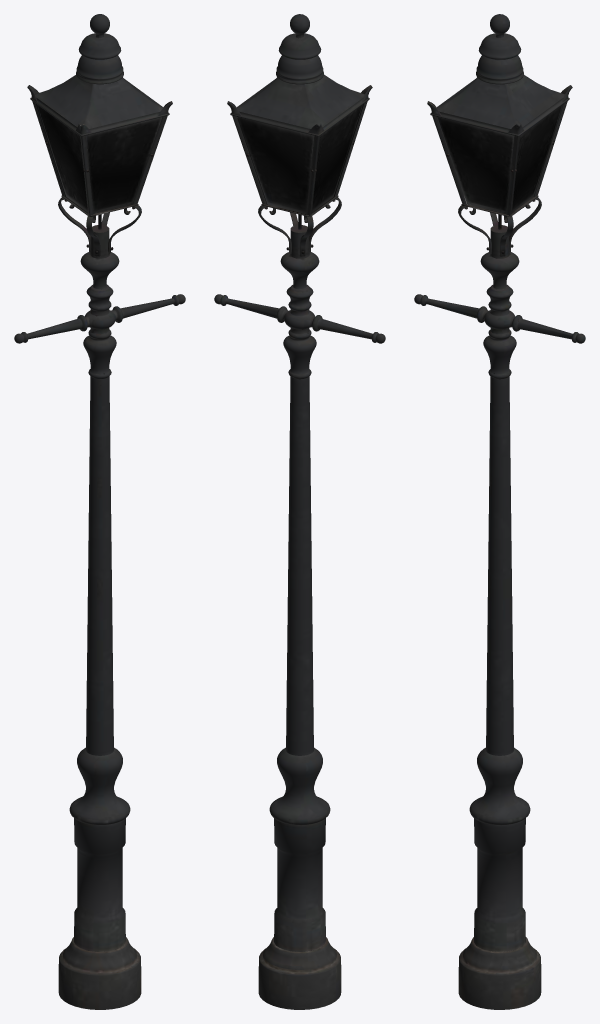
File: street_lamp.glb
3 views of the same model, side by side, from view 1: azimuth 30°, elevation 25°; view 2: azimuth 150°, elevation 25°; view 3: azimuth 330°, elevation 25° (orthographic).
Visible parts, largest first — view 1: street_lamp; view 2: street_lamp; view 3: street_lamp.
Boxes of the visible parts, box(x1,y1,x2,y2) form: street_lamp: box(14, 14, 185, 1009); street_lamp: box(214, 14, 385, 1009); street_lamp: box(414, 14, 585, 1009).
Size of the model in its own units: 0.7097 by 3.9 by 0.3895.
1 material, 1 textured.
